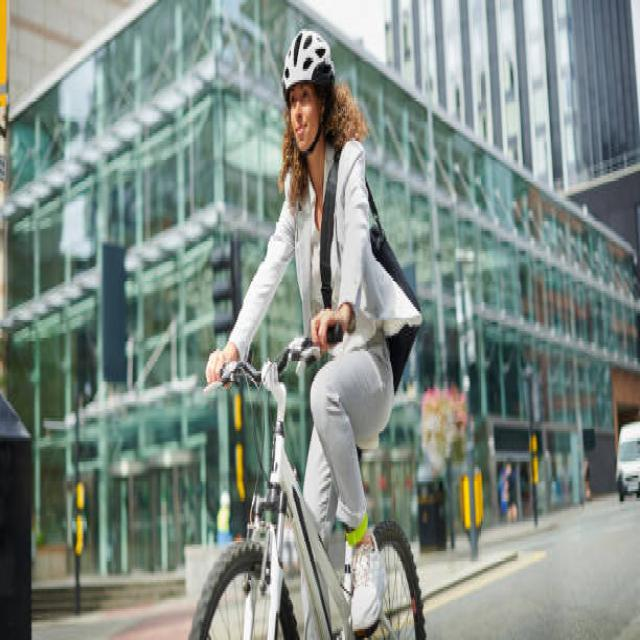bicycle: (191, 29, 425, 640)
